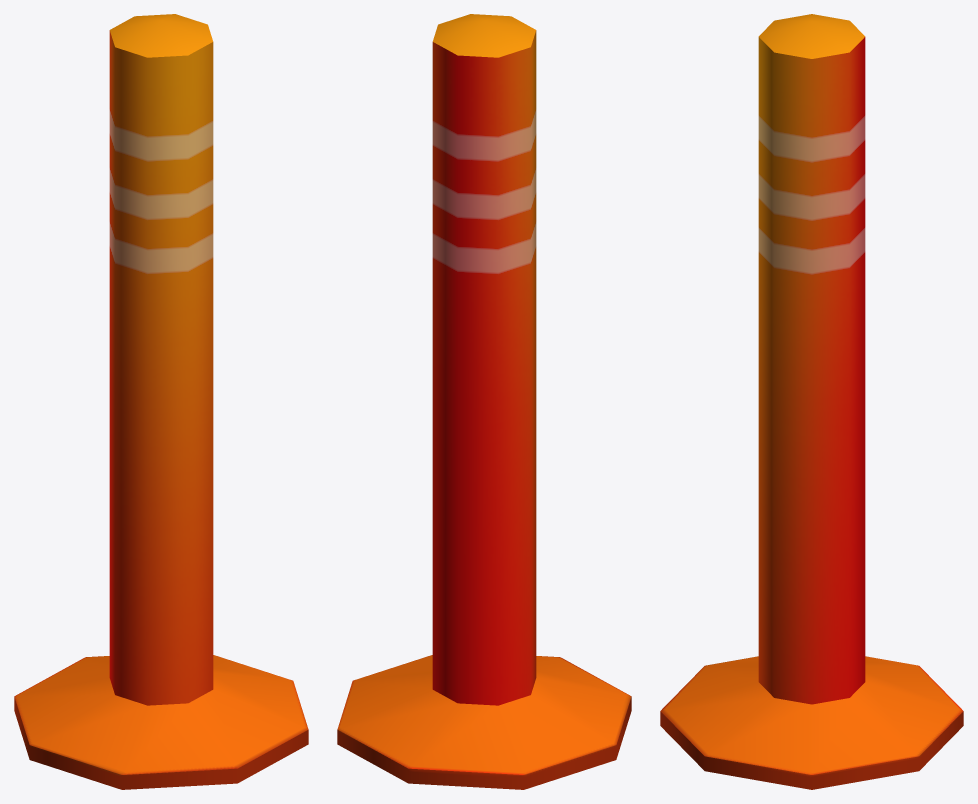
File: Pylon_02.fbx
The picture shows the model from 3 angles, left to right: view 1: azimuth 30°, elevation 25°; view 2: azimuth 150°, elevation 25°; view 3: azimuth 270°, elevation 25°; orthographic projection.
Parts seen in each view (by area): view 1: Pylon; view 2: Pylon; view 3: Pylon.
Boxes of the visible parts, x1,y1,x2,y2 form: Pylon: (14, 14, 308, 789); Pylon: (337, 14, 631, 789); Pylon: (660, 14, 963, 789).
Size of the model in its own units: 39.88 by 102 by 39.88.
